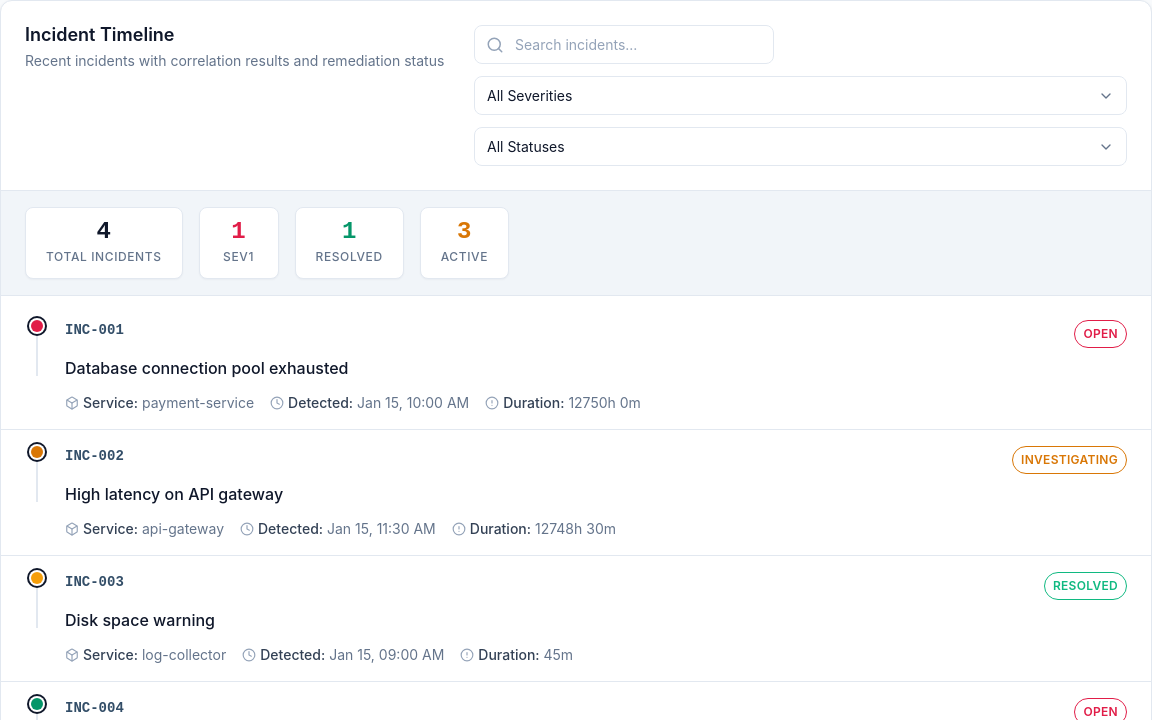
it: IncidentTimeline › filters by severity when selecting sev1
The width and height of the screenshot is (1152, 720).
Select "SEV1 - Critical" in the dropdown named "Filter by severity" at (800,96), box [474, 76, 1127, 115]
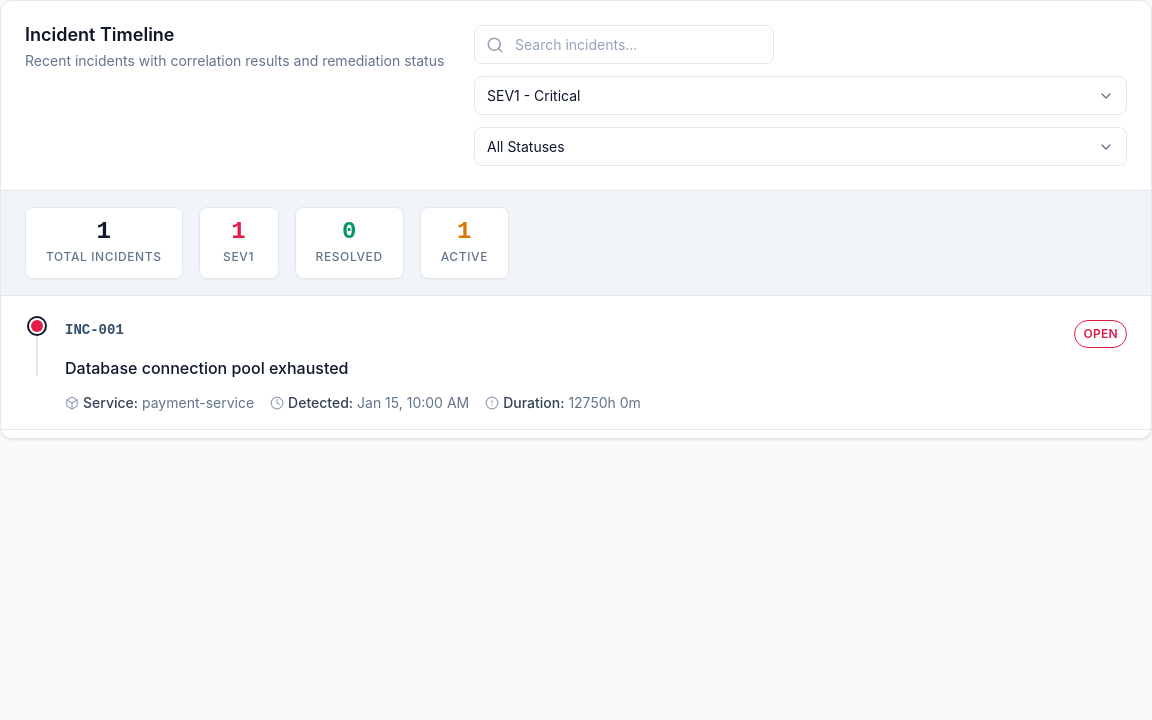
Expected: the text "INC-001" is shown, [65, 320, 124, 341]
Expected: the text "INC-002" is gone
Expected: the text "INC-003" is gone
